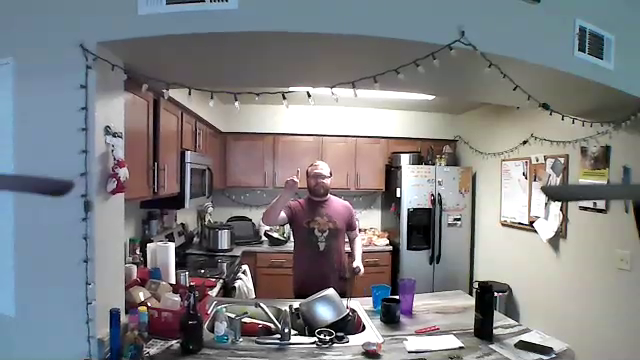up: (282, 164, 302, 198)
